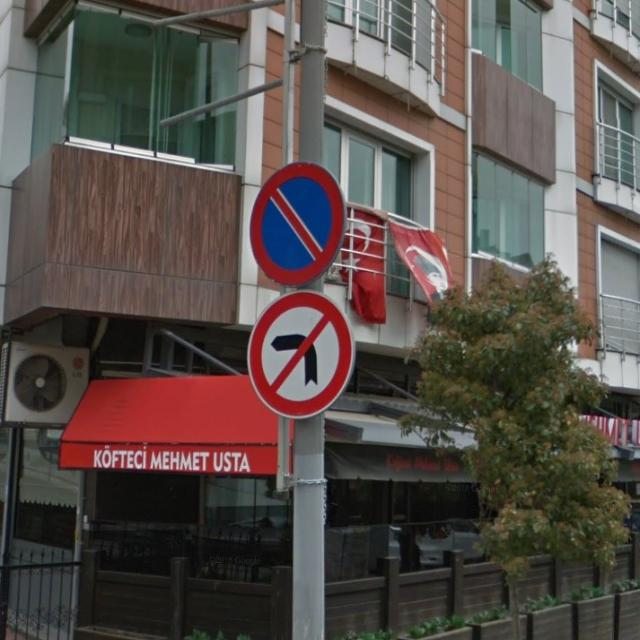parkyasak: (248, 161, 346, 288)
soladonulmez: (244, 291, 354, 418)
